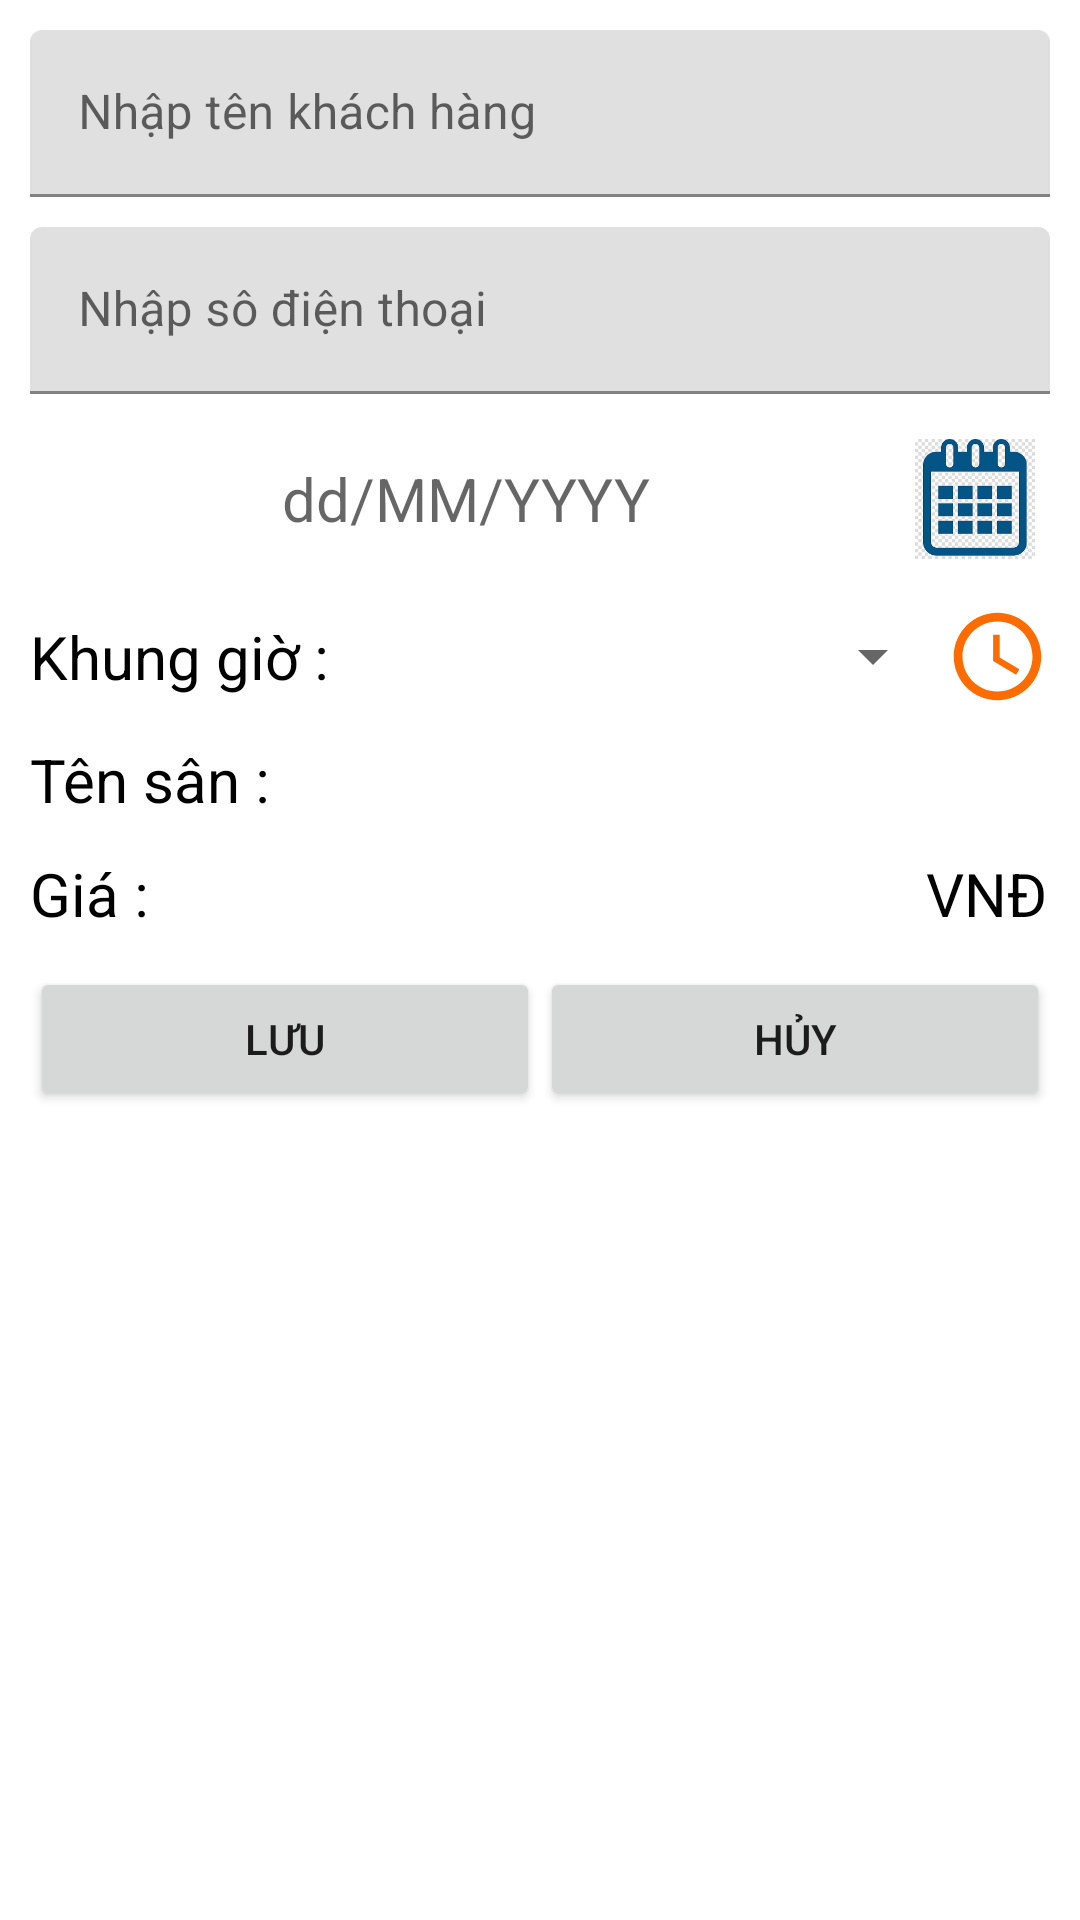

Where to tap for icons on this 1080×1920 app screen, as point (x, y):
access time: point (997, 656)
imgdate: point (975, 499)
